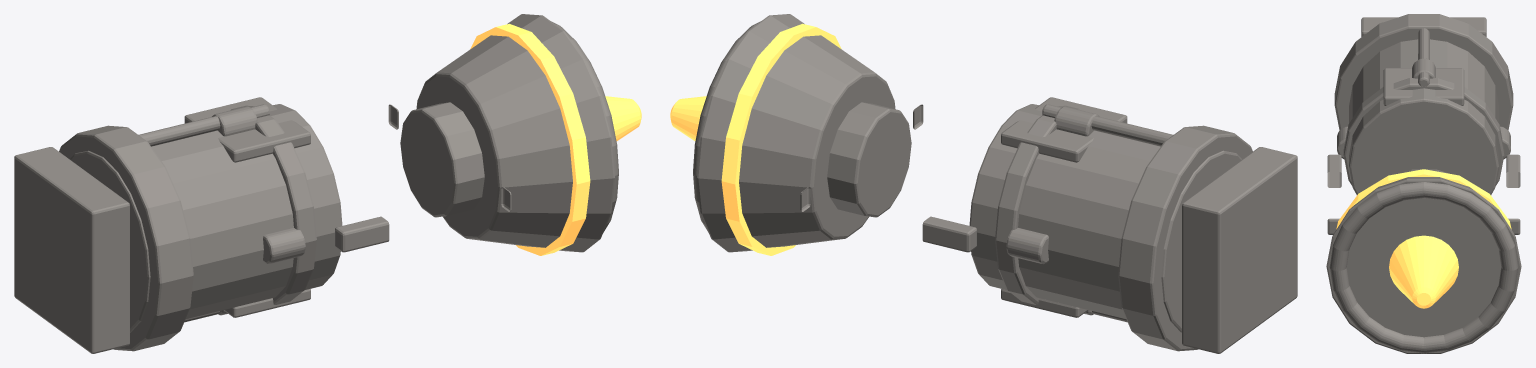
Rendered from engine_vector.glb.
The picture shows the model from 3 angles, left to right: view 1: azimuth 30°, elevation 25°; view 2: azimuth 150°, elevation 25°; view 3: azimuth 270°, elevation 25°; orthographic projection. The views are drawn at different scales.
Visible parts, largest first — view 1: LOD0_ENGINE_VECTOR_MAIN, Vector_Nozzle_Rig, DET_heat_scorch_band, HOOK_DRIVE_PLUME; view 2: LOD0_ENGINE_VECTOR_MAIN, Vector_Nozzle_Rig, DET_heat_scorch_band, HOOK_DRIVE_PLUME; view 3: LOD0_ENGINE_VECTOR_MAIN, Vector_Nozzle_Rig, HOOK_DRIVE_PLUME, DET_heat_scorch_band.
Part boxes in pixels (x1,y1,x2,y2): LOD0_ENGINE_VECTOR_MAIN: (14,97,389,353); Vector_Nozzle_Rig: (388,14,618,252); DET_heat_scorch_band: (470,23,590,255); HOOK_DRIVE_PLUME: (605,96,641,140); LOD0_ENGINE_VECTOR_MAIN: (922,97,1297,353); Vector_Nozzle_Rig: (693,14,923,252); DET_heat_scorch_band: (721,23,841,255); HOOK_DRIVE_PLUME: (670,96,706,140); LOD0_ENGINE_VECTOR_MAIN: (1327,14,1520,194); Vector_Nozzle_Rig: (1326,169,1521,353); HOOK_DRIVE_PLUME: (1389,235,1458,308); DET_heat_scorch_band: (1336,169,1511,229).
Bounding box in the file's own units: 3 × 1.08 × 1.09.
